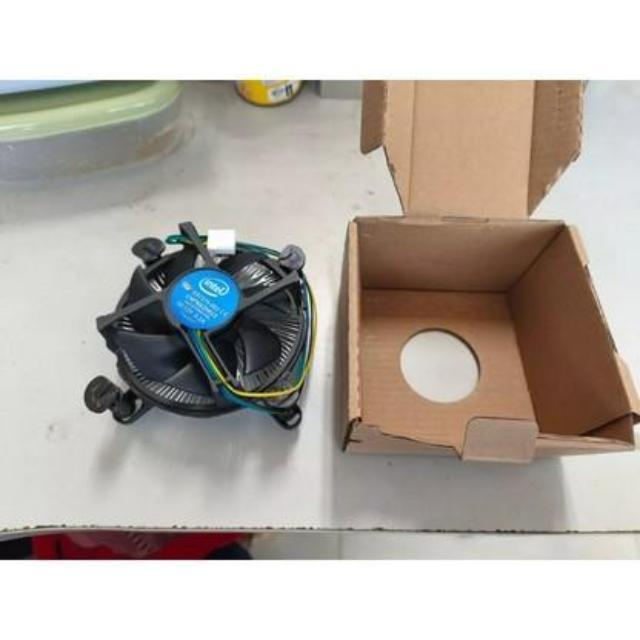CPU_Fan: (96, 230, 310, 424)
